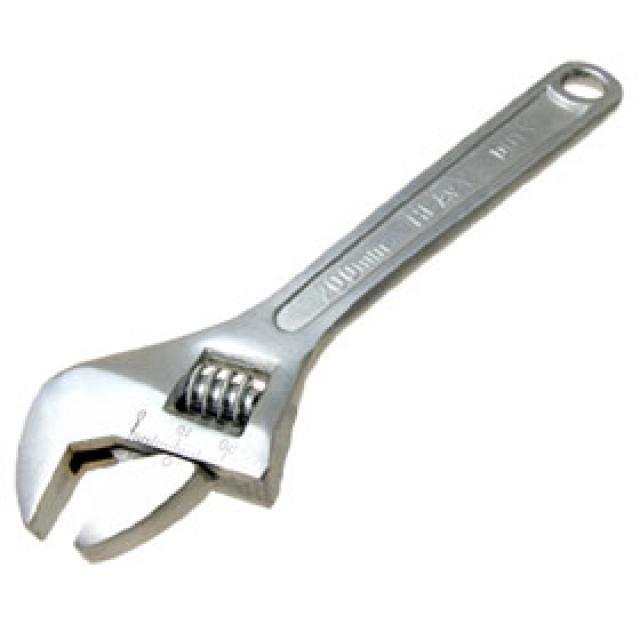wrench: (8, 51, 629, 574)
